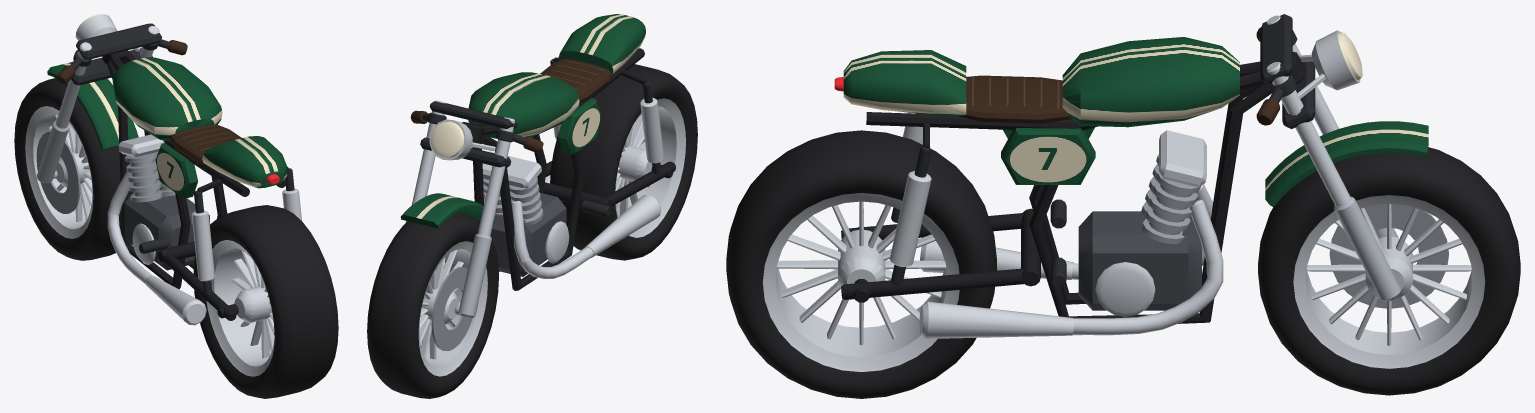
Rendered from MotorcycleTag_Cafe.glb.
3 renders of one model, left to right at view 1: azimuth 30°, elevation 25°; view 2: azimuth 150°, elevation 25°; view 3: azimuth 270°, elevation 25°, orthographic. The views are drawn at different scales.
Visible parts, largest first — view 1: RearWheel, FrontWheel, Bodywork, Engine, Fork, Frame, Swingarm, Exhaust, FrontFender, Seat, Handlebars; view 2: FrontWheel, RearWheel, Bodywork, Fork, Engine, Frame, Exhaust, Swingarm, FrontFender, Seat, Headlight, Handlebars; view 3: RearWheel, FrontWheel, Bodywork, Engine, Fork, Exhaust, Frame, Swingarm, FrontFender, Seat, Handlebars.
Part boxes in pixels (<box>): RearWheel: <box>193,205,338,398</box>; FrontWheel: <box>14,78,132,260</box>; Bodywork: <box>112,57,287,198</box>; Engine: <box>118,134,210,270</box>; Fork: <box>36,14,161,183</box>; Frame: <box>102,50,288,289</box>; Swingarm: <box>158,168,301,320</box>; Exhaust: <box>107,171,206,325</box>; FrontFender: <box>47,62,138,149</box>; Seat: <box>169,124,241,165</box>; Handlebars: <box>57,39,187,83</box>; FrontWheel: <box>367,212,498,398</box>; RearWheel: <box>550,64,697,260</box>; Bodywork: <box>468,14,645,154</box>; Fork: <box>405,100,517,317</box>; Engine: <box>482,151,569,276</box>; Frame: <box>462,48,646,290</box>; Exhaust: <box>483,175,661,278</box>; Swingarm: <box>543,58,675,207</box>; FrontFender: <box>400,193,494,228</box>; Seat: <box>540,59,611,102</box>; Headlight: <box>430,121,464,158</box>; Handlebars: <box>410,110,543,153</box>; RearWheel: <box>726,130,996,398</box>; FrontWheel: <box>1258,147,1520,395</box>; Bodywork: <box>843,37,1239,184</box>; Engine: <box>1078,130,1206,316</box>; Fork: <box>1260,14,1401,301</box>; Exhaust: <box>919,184,1223,338</box>; Frame: <box>866,52,1306,323</box>; Swingarm: <box>841,112,1040,302</box>; FrontFender: <box>1265,121,1428,207</box>; Seat: <box>958,75,1071,123</box>; Handlebars: <box>1256,27,1297,125</box>.
Size of the model in its own units: 2.11 by 3.93 by 7.98.
Materials: 1 (1 with a texture image).
